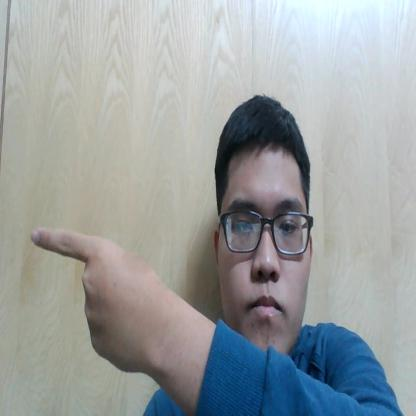right: (25, 214, 172, 389)
